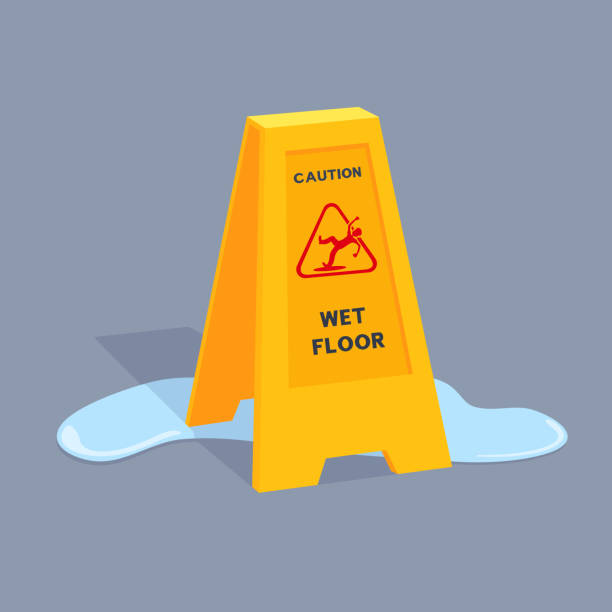wet caution sign: (183, 121, 468, 468)
